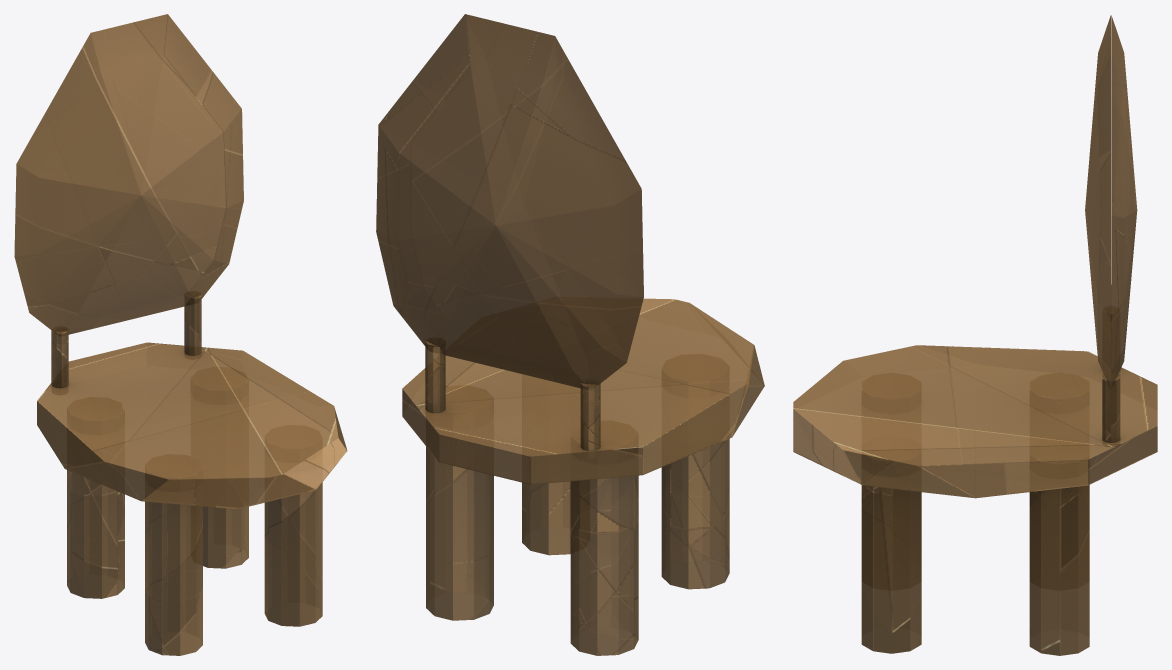
Rendered from MD_isu_20251207.fbx.
The picture shows the model from 3 angles, left to right: view 1: azimuth 30°, elevation 25°; view 2: azimuth 150°, elevation 25°; view 3: azimuth 270°, elevation 25°; orthographic projection. The views are drawn at different scales.
Parts seen in each view (by area): view 1: pCone1; view 2: pCone1; view 3: pCone1.
Boxes of the visible parts, x1,y1,x2,y2 form: pCone1: (14, 14, 347, 655); pCone1: (376, 14, 764, 655); pCone1: (793, 15, 1157, 655).
Size of the model in its own units: 102 by 203 by 117.
